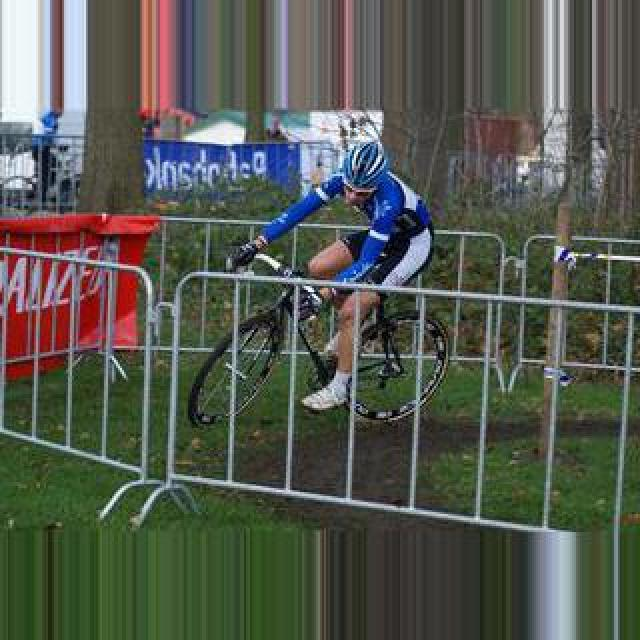MC-Bike: (230, 128, 436, 424)
Person: (187, 249, 465, 427)
